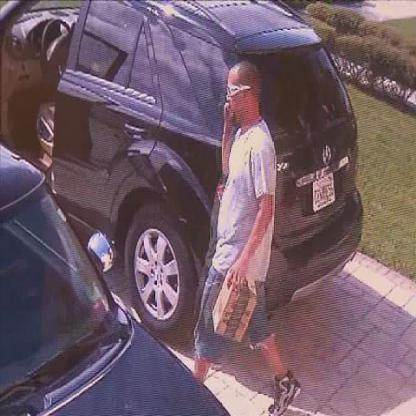package: (211, 264, 259, 346)
